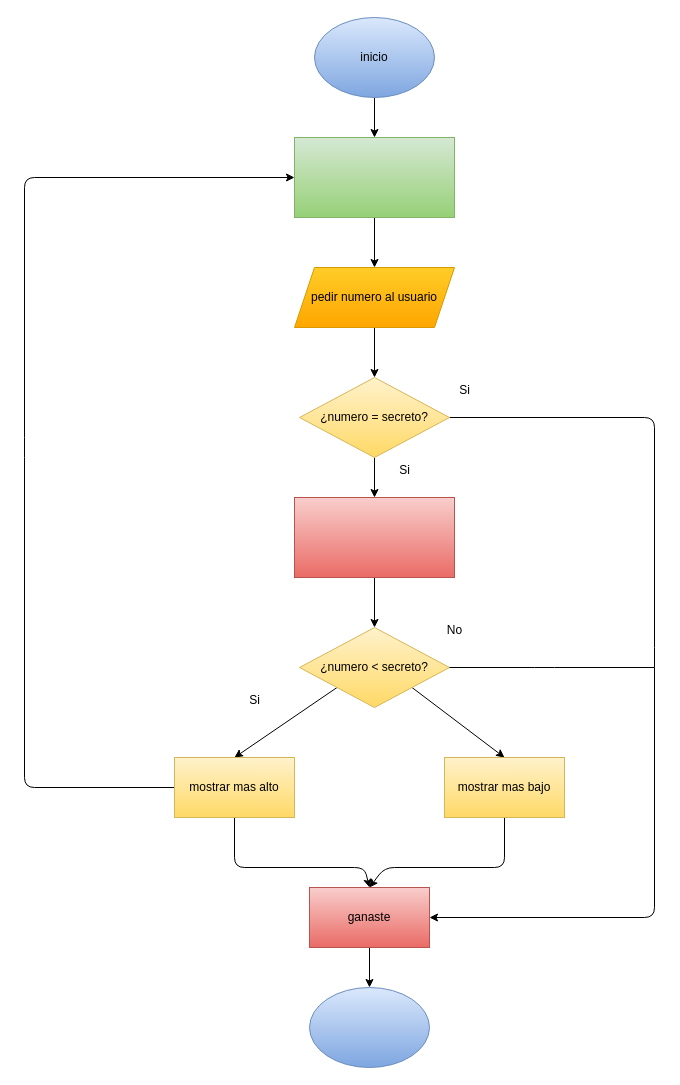
The diagram is 680 pixels wide and 1085 high, and some of its shapes have lost their labels. Here are the shapes that lost their labels. From the top down, the centre of each, then its label:
At [374,177]: "generar numero aleatorio (1,100)".
At [374,537]: "¡correcto! adivinaste el numero".
At [369,1027]: "fin".
